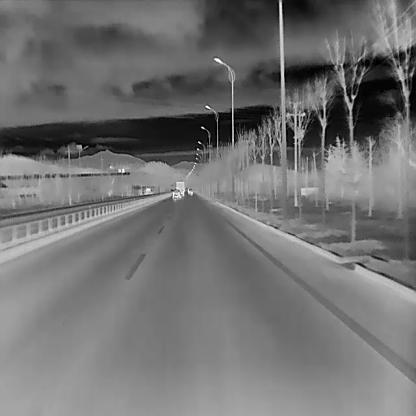car: (175, 180, 185, 196), (171, 188, 181, 200), (188, 188, 192, 194)
